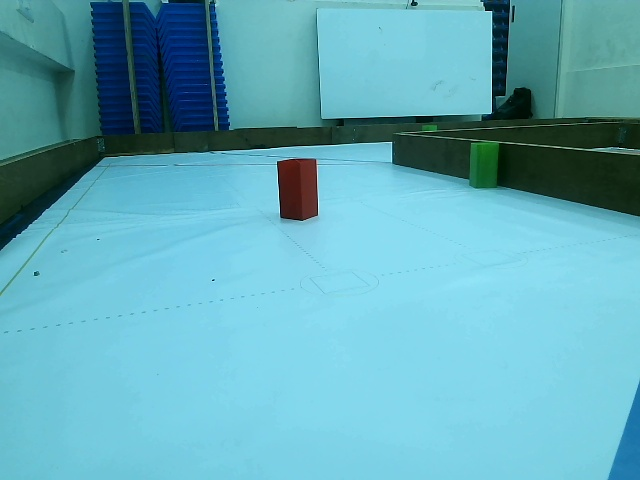red: (279, 160, 318, 218)
